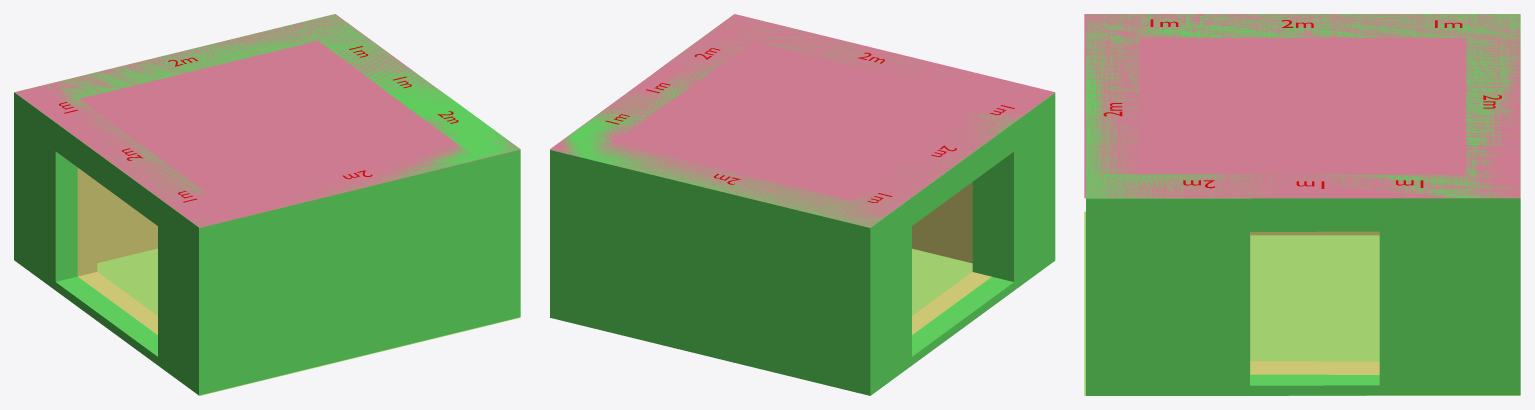
File: квартира_обучение.fbx
The picture shows the model from 3 angles, left to right: view 1: azimuth 30°, elevation 25°; view 2: azimuth 150°, elevation 25°; view 3: azimuth 270°, elevation 25°; orthographic projection. The views are drawn at different scales.
Visible parts, largest first — view 1: walls, roof, wallpaper, floor; view 2: walls, roof, wallpaper, floor; view 3: walls, roof, floor, wallpaper.
Part boxes in pixels (bbox=[...]): walls: bbox=[14, 14, 520, 395]; roof: bbox=[15, 14, 520, 227]; wallpaper: bbox=[77, 168, 157, 334]; floor: bbox=[97, 248, 520, 395]; walls: bbox=[550, 14, 1055, 395]; roof: bbox=[550, 14, 1054, 227]; wallpaper: bbox=[912, 182, 991, 334]; floor: bbox=[549, 248, 972, 317]; walls: bbox=[1086, 14, 1520, 395]; roof: bbox=[1084, 14, 1520, 198]; floor: bbox=[1084, 211, 1520, 395]; wallpaper: bbox=[1250, 231, 1379, 374].
Bounding box in the file's own units: 801 × 404 × 801.
